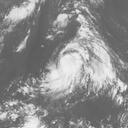cyclone: (40, 42, 94, 101)
